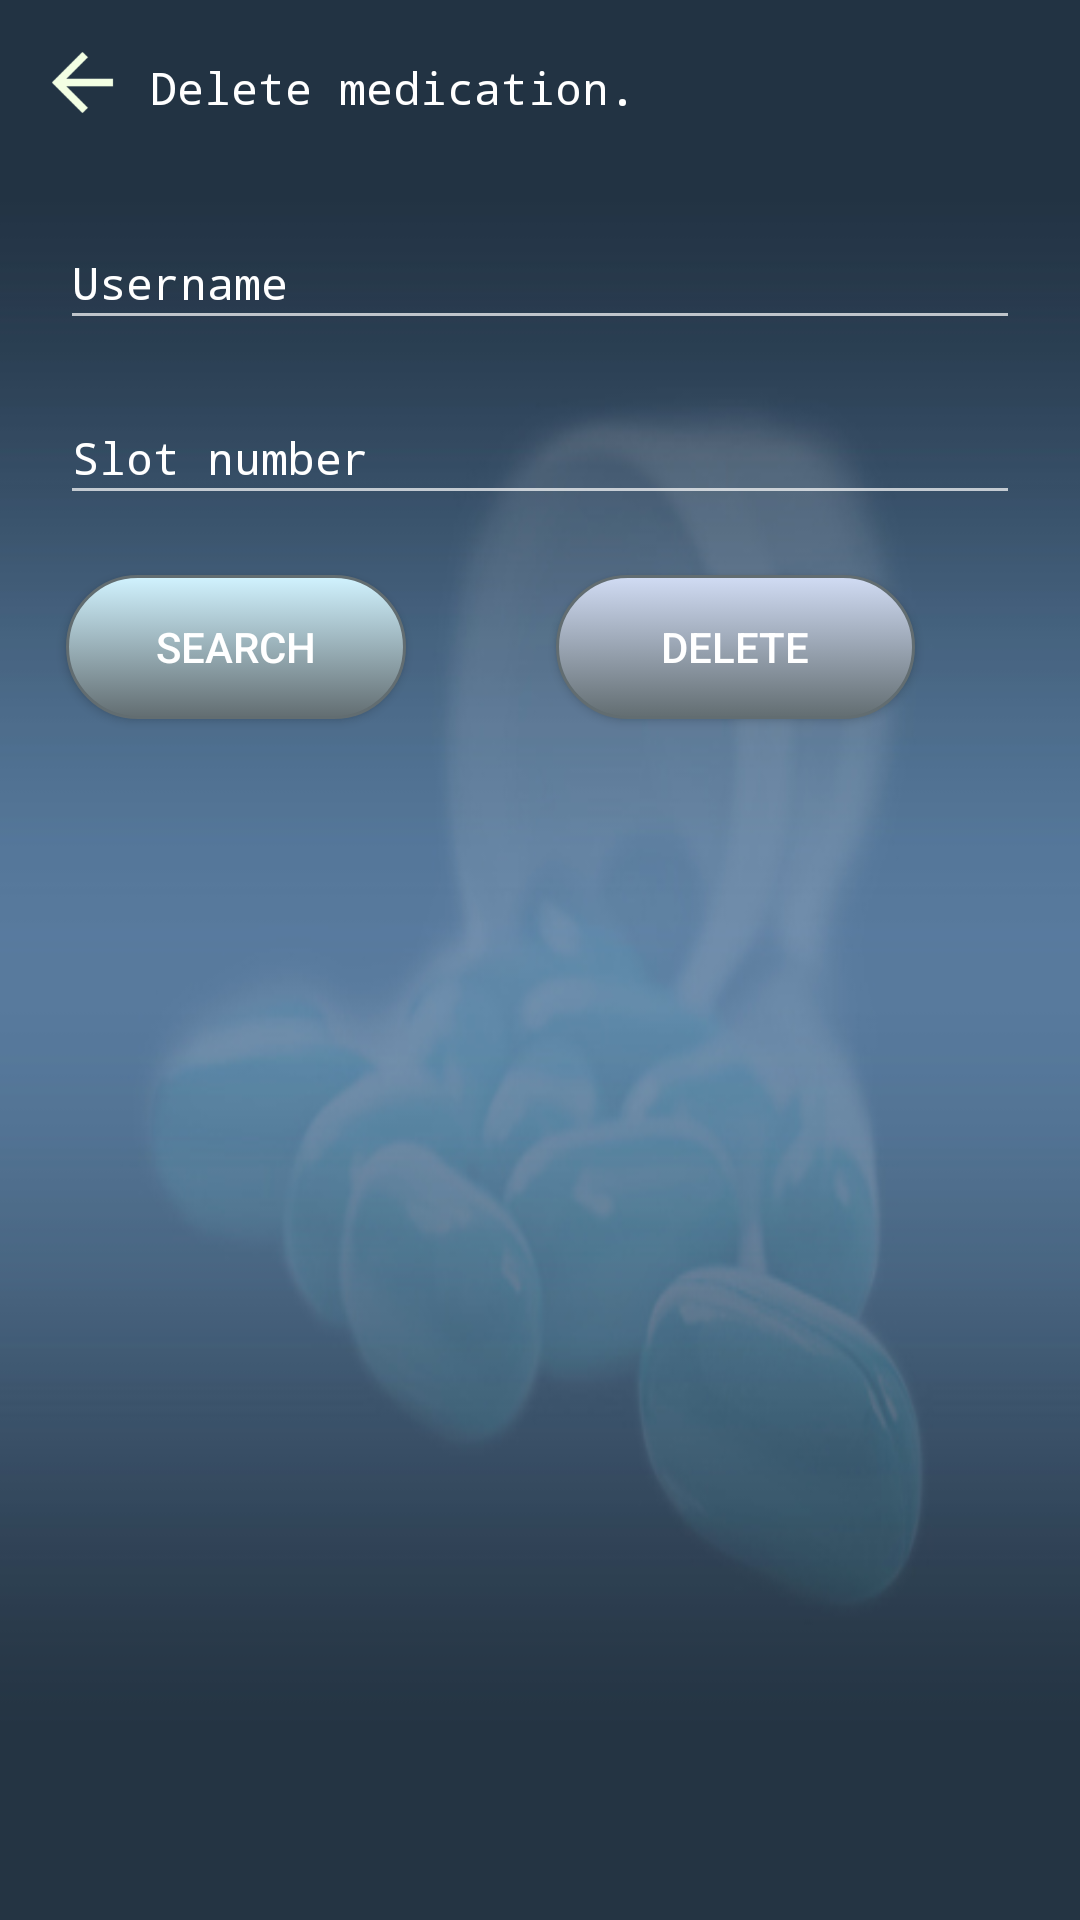

Icon click points for this 1080 × 1920 phone screenshot, format point (x, y):
arrow back: point (82, 82)
